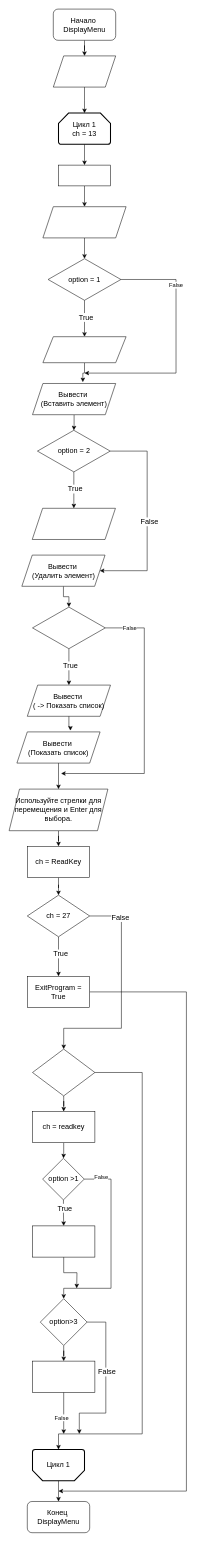
This 200x1542 diagram has some shape labels left out. Each missing label, with the centre of its shape:
ch = 0: pixel 63 1072
clearscreen: pixel 84 175
option = 3: pixel 68 628
option+=1: pixel 63 1376
option=1: pixel 63 1241
Ввести option, exitProgram: pixel 84 71
Вывести ( -> Вставить элемент): pixel 84 349
Вывести ( -> Удалить элемент): pixel 73 524
Вывести Выберите действие: pixel 84 222
